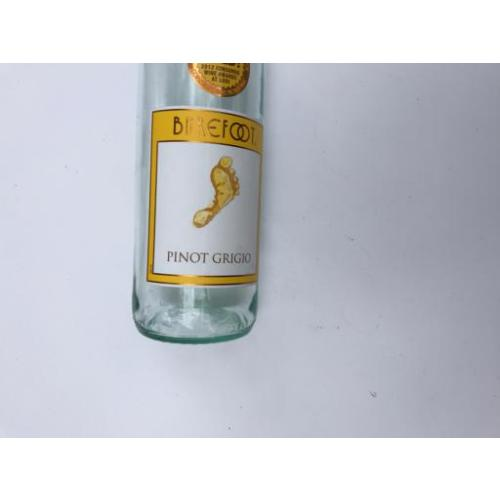glass: (137, 67, 256, 340)
